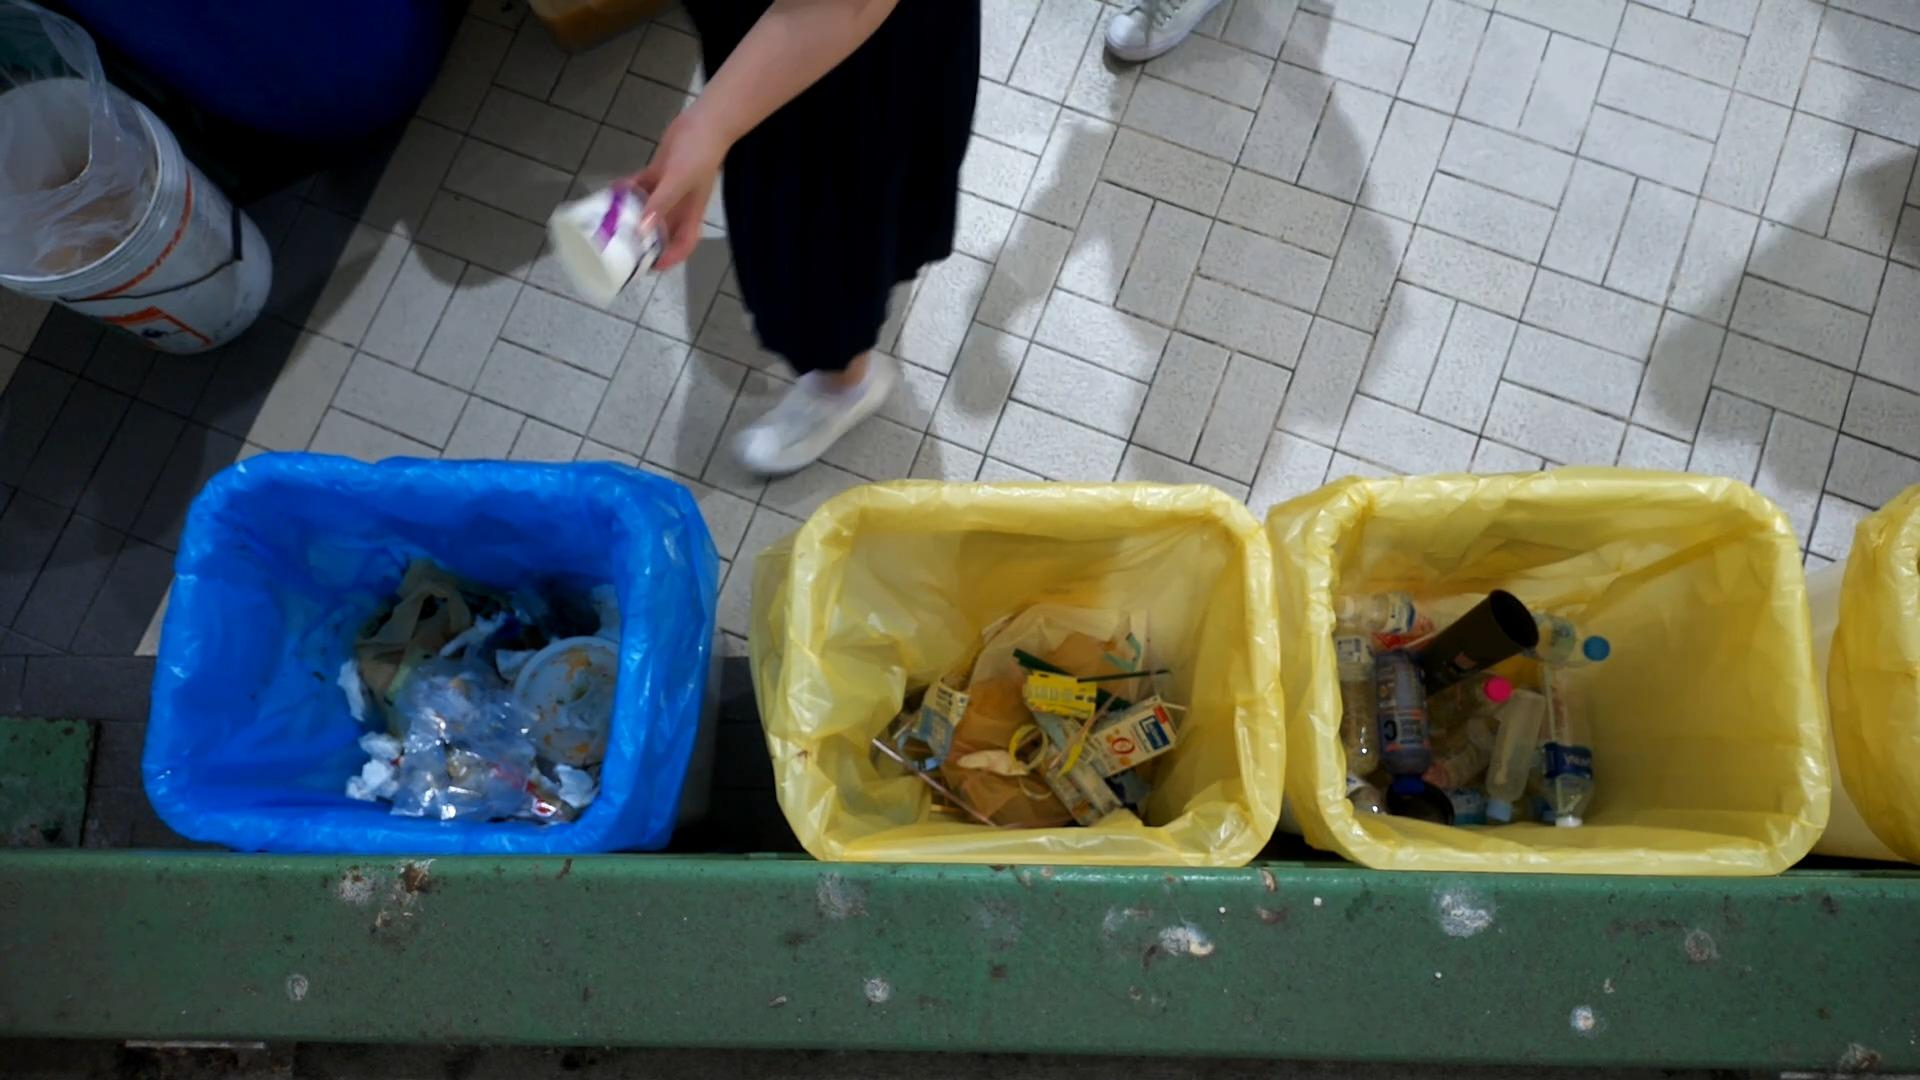dirty food container: (513, 626, 630, 771)
filled plastic bag: (343, 554, 516, 708)
food container: (530, 174, 682, 315)
milk carton: (1069, 683, 1179, 782), (1027, 735, 1130, 827), (897, 676, 973, 777)
plastic bag: (381, 653, 529, 829), (963, 596, 1154, 695)
plastic bottle: (1531, 647, 1600, 832), (1332, 611, 1387, 785), (1371, 647, 1435, 796), (1482, 684, 1545, 825), (1333, 582, 1464, 644), (1520, 607, 1615, 671)
plastic cup: (1416, 584, 1545, 703), (1374, 771, 1458, 827)
straw: (870, 738, 998, 829), (1539, 655, 1598, 819), (1005, 646, 1137, 713), (1047, 683, 1126, 770), (1055, 655, 1183, 687), (1155, 700, 1187, 713)
tissue paper: (545, 659, 611, 738), (547, 758, 607, 815), (334, 651, 373, 721), (955, 746, 1031, 777)
